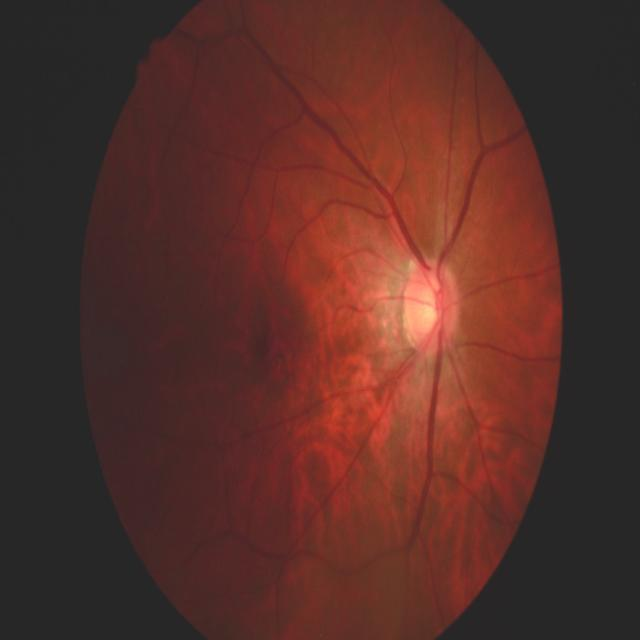cup: (421, 272, 443, 342)
disk: (404, 258, 455, 350)
